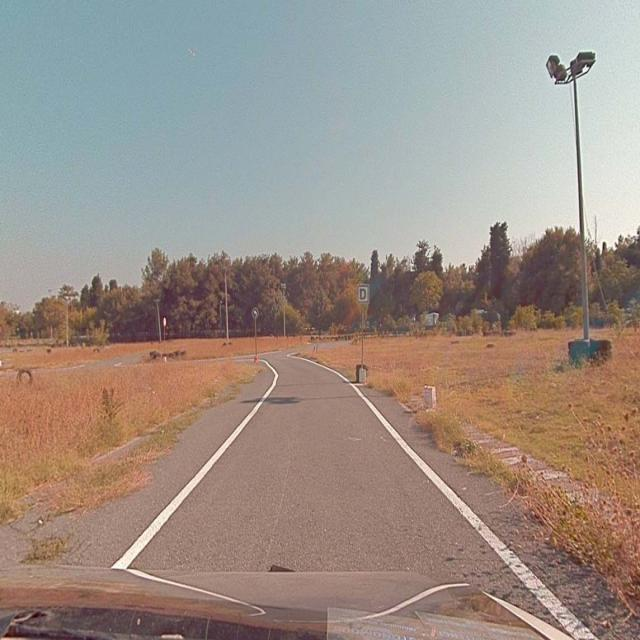durak: (358, 285, 368, 303)
sol: (252, 309, 258, 319)
